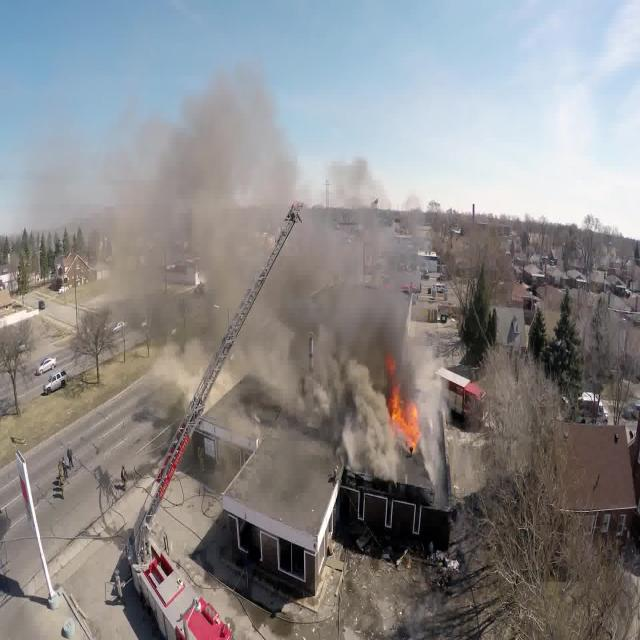Fire: (361, 354, 430, 450)
Smoke: (112, 104, 448, 510)
